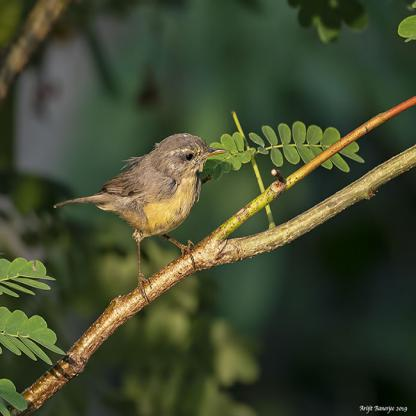Burung: (51, 133, 225, 307)
